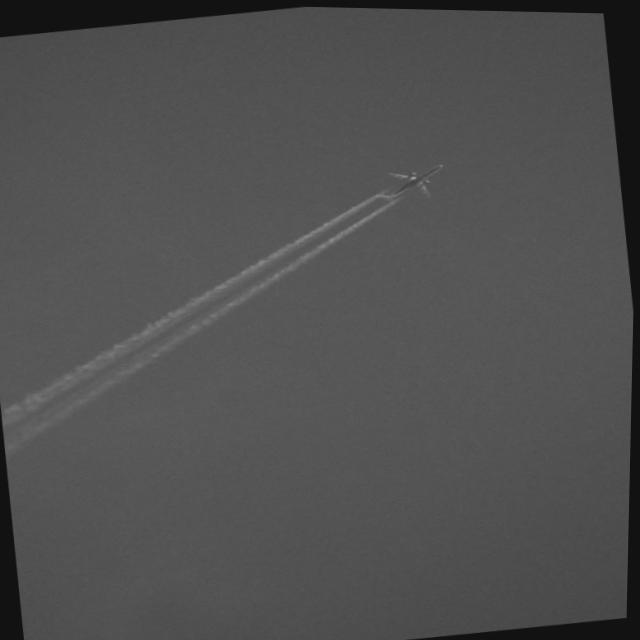aeroplane: (365, 157, 452, 211)
